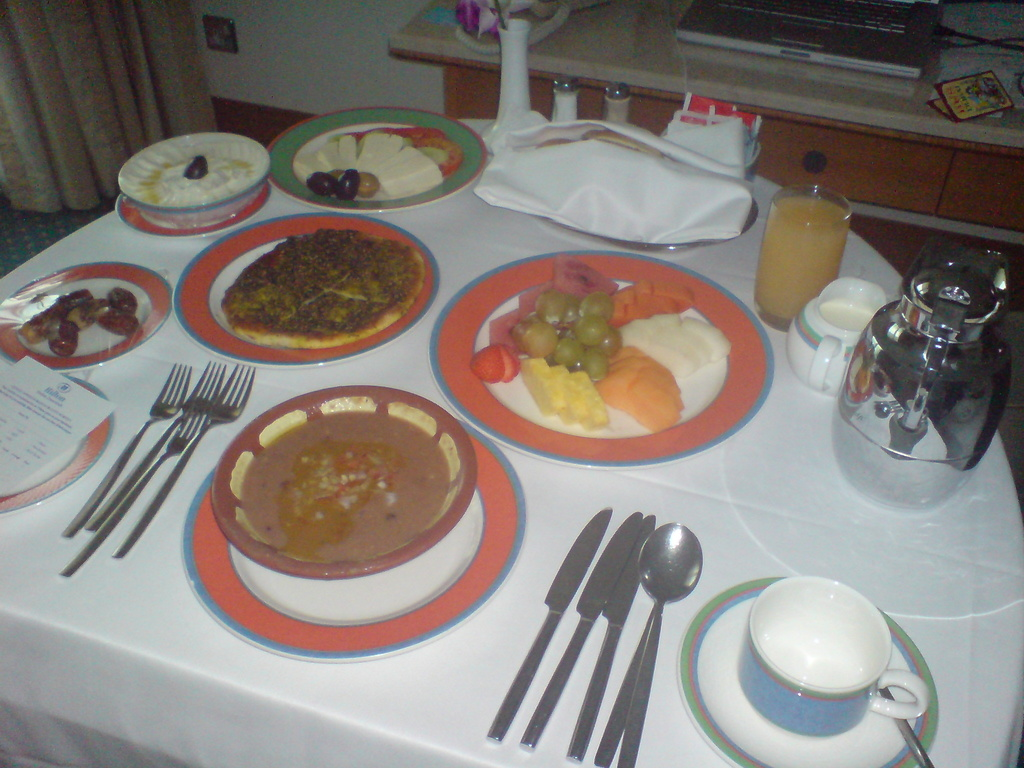plate: (186, 402, 521, 654)
